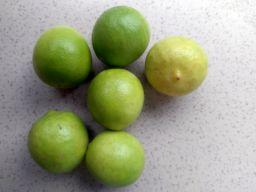lemon: (31, 24, 94, 97), (26, 107, 91, 177), (143, 33, 211, 99), (85, 65, 147, 132), (91, 3, 153, 69), (83, 130, 146, 190)
